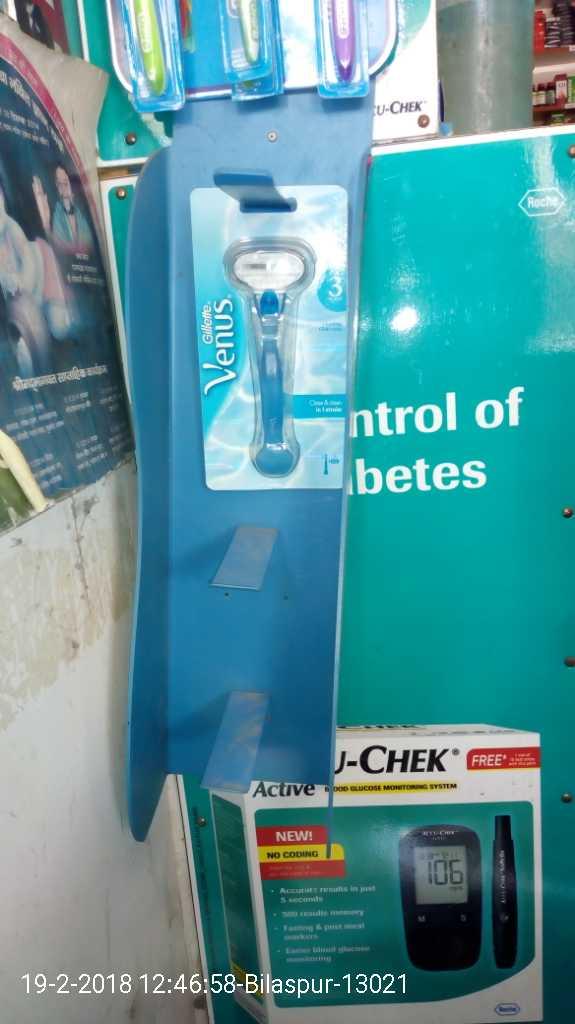venus: (194, 182, 355, 482)
